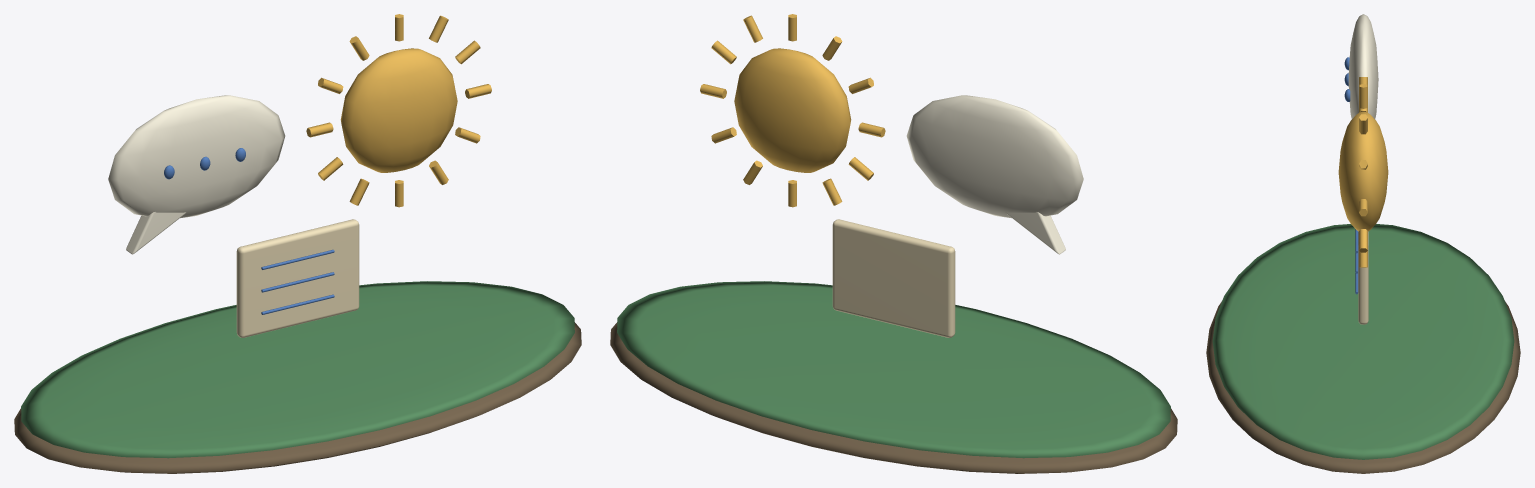
Rendered from complete-second-speaking-bright.glb.
3 views of the same model, side by side, from view 1: azimuth 30°, elevation 25°; view 2: azimuth 150°, elevation 25°; view 3: azimuth 270°, elevation 25° (orthographic). The views are drawn at different scales.
Visible parts, largest first — view 1: complete-second-speaking-bright_surface_01, complete-second-speaking-bright_surface_02, complete-second-speaking-bright_surface_04, complete-second-speaking-bright_surface_05, complete-second-speaking-bright_surface_00, complete-second-speaking-bright_surface_03; view 2: complete-second-speaking-bright_surface_01, complete-second-speaking-bright_surface_02, complete-second-speaking-bright_surface_04, complete-second-speaking-bright_surface_05, complete-second-speaking-bright_surface_00; view 3: complete-second-speaking-bright_surface_01, complete-second-speaking-bright_surface_00, complete-second-speaking-bright_surface_04, complete-second-speaking-bright_surface_02, complete-second-speaking-bright_surface_05, complete-second-speaking-bright_surface_03.
Part boxes in pixels (x1,y1,x2,y2): complete-second-speaking-bright_surface_01: (21, 281, 574, 458); complete-second-speaking-bright_surface_02: (108, 95, 285, 254); complete-second-speaking-bright_surface_04: (306, 14, 491, 207); complete-second-speaking-bright_surface_05: (236, 219, 359, 337); complete-second-speaking-bright_surface_00: (14, 322, 581, 473); complete-second-speaking-bright_surface_03: (164, 148, 334, 314); complete-second-speaking-bright_surface_01: (617, 281, 1170, 458); complete-second-speaking-bright_surface_02: (906, 95, 1083, 254); complete-second-speaking-bright_surface_04: (700, 14, 885, 207); complete-second-speaking-bright_surface_05: (832, 219, 955, 337); complete-second-speaking-bright_surface_00: (610, 322, 1177, 473); complete-second-speaking-bright_surface_01: (1212, 224, 1514, 459); complete-second-speaking-bright_surface_00: (1206, 301, 1520, 473); complete-second-speaking-bright_surface_04: (1338, 77, 1388, 267); complete-second-speaking-bright_surface_02: (1348, 14, 1378, 119); complete-second-speaking-bright_surface_05: (1358, 231, 1368, 324); complete-second-speaking-bright_surface_03: (1344, 57, 1358, 294).
Bounding box in the file's own units: 4.56 × 2.87 × 2.5.
